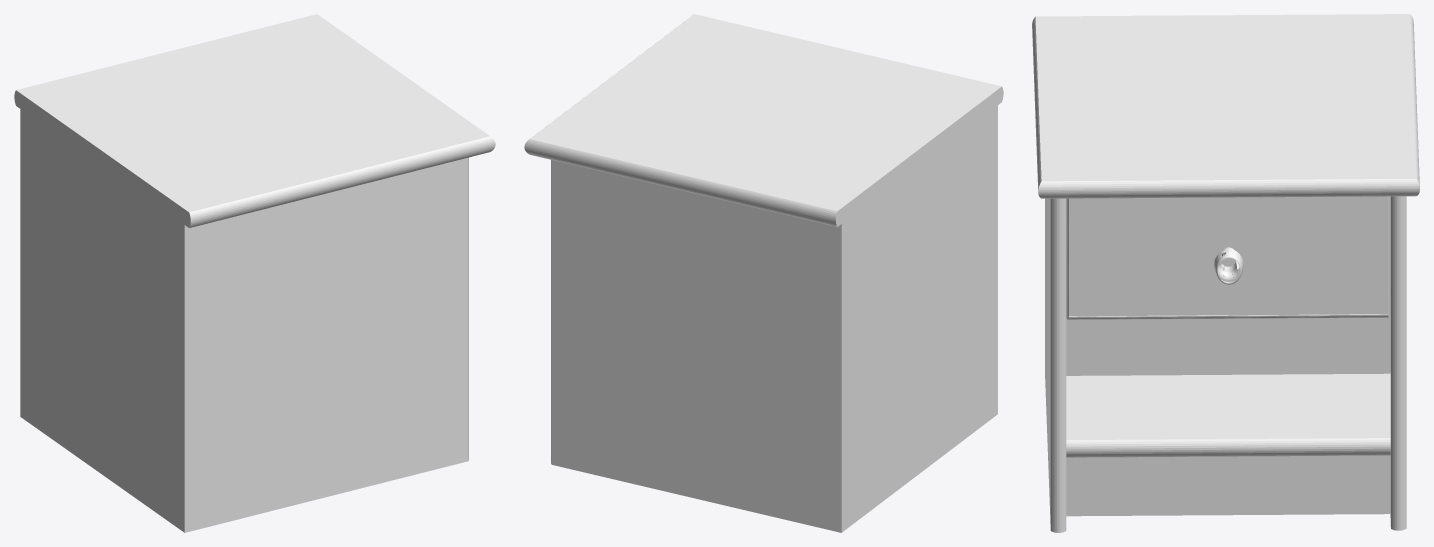
File: MesaBebe.obj
3 renders of one model, left to right at view 1: azimuth 30°, elevation 25°; view 2: azimuth 150°, elevation 25°; view 3: azimuth 270°, elevation 25°, orthographic. The views are drawn at different scales.
Visible parts, largest first — view 1: MesaBebe4:default_1_1; view 2: MesaBebe4:default_1_1; view 3: MesaBebe4:default_1_1.
Part boxes in pixels (box(x1,y1,x2,y2)): MesaBebe4:default_1_1: box(14, 14, 495, 532); MesaBebe4:default_1_1: box(524, 14, 1003, 532); MesaBebe4:default_1_1: box(1032, 14, 1419, 532).
Size of the model in its own units: 4.11 by 4.07 by 3.98.
1 material, 1 textured.
